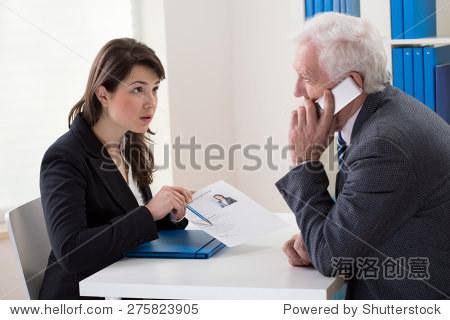phone: (299, 79, 367, 124)
talk: (289, 63, 370, 154)
